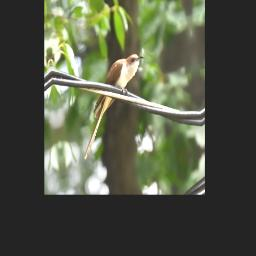Cuckoo: (73, 49, 154, 162)
